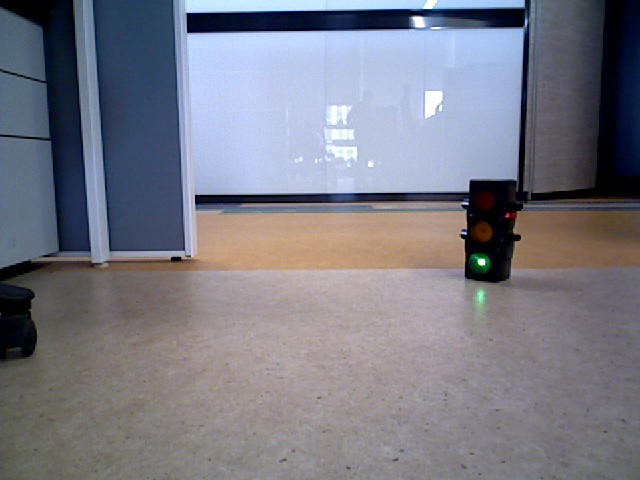green: (469, 181, 505, 276)
